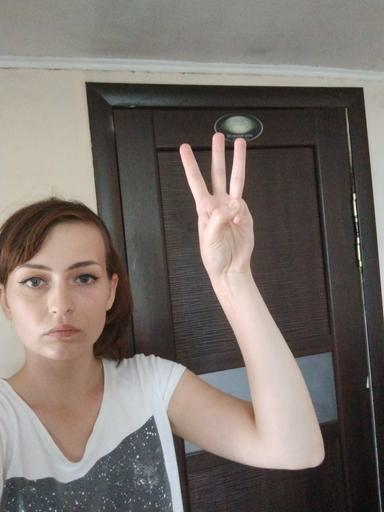three: (178, 130, 260, 281)
